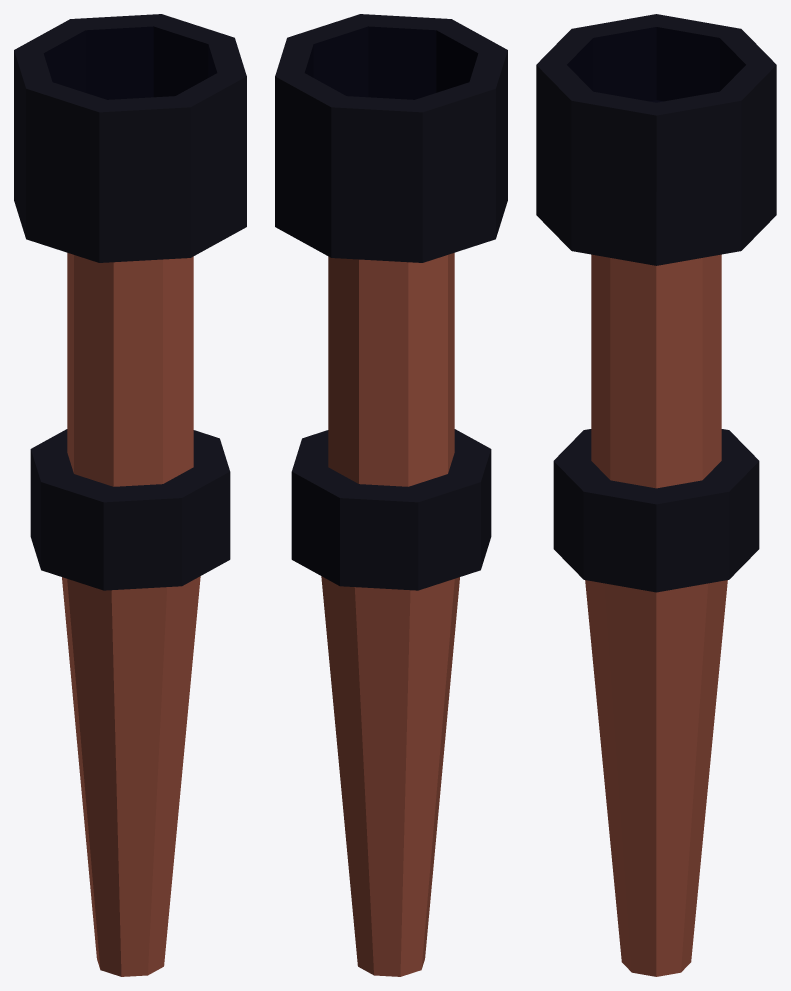
Rendered from torch.fbx.
3 renders of one model, left to right at view 1: azimuth 30°, elevation 25°; view 2: azimuth 150°, elevation 25°; view 3: azimuth 270°, elevation 25°, orthographic.
Visible parts, largest first — view 1: torch; view 2: torch; view 3: torch.
Part boxes in pixels (x1,y1,x2,y2): torch: [14, 14, 246, 976]; torch: [275, 14, 507, 976]; torch: [536, 14, 776, 976].
Bounding box in the file's own units: 15 × 61.78 × 15.
1 material, 1 textured.
